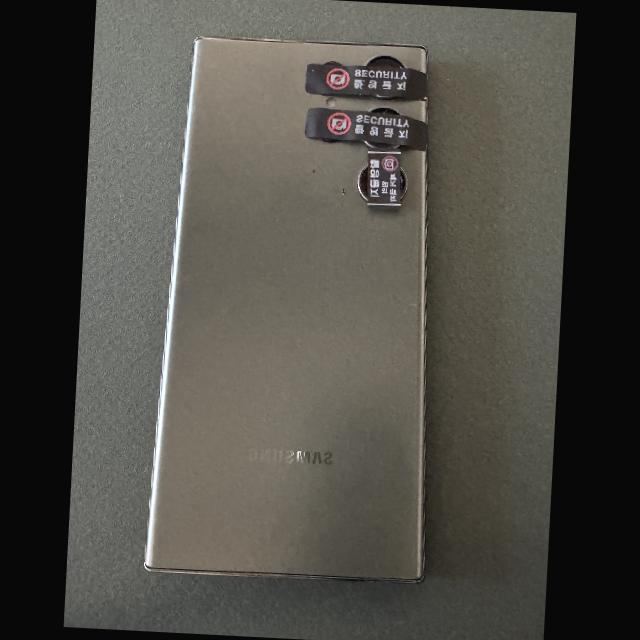lens: (364, 56, 401, 68), (359, 167, 367, 199), (370, 108, 400, 116), (324, 62, 339, 66)
phone: (145, 37, 428, 582)
sticker: (305, 108, 427, 152), (306, 63, 428, 101), (366, 149, 402, 212)
